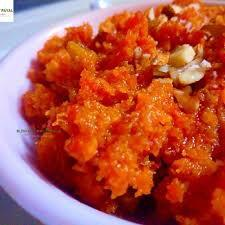Gajar ka halwa: (23, 2, 225, 225)
